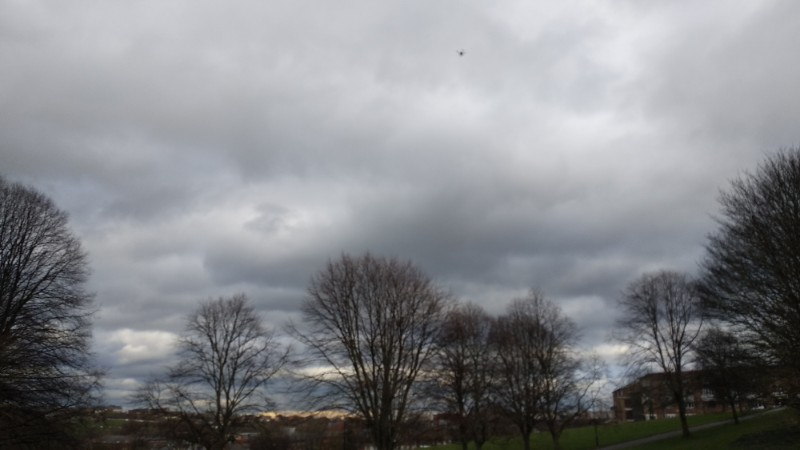drone: (456, 48, 466, 59)
